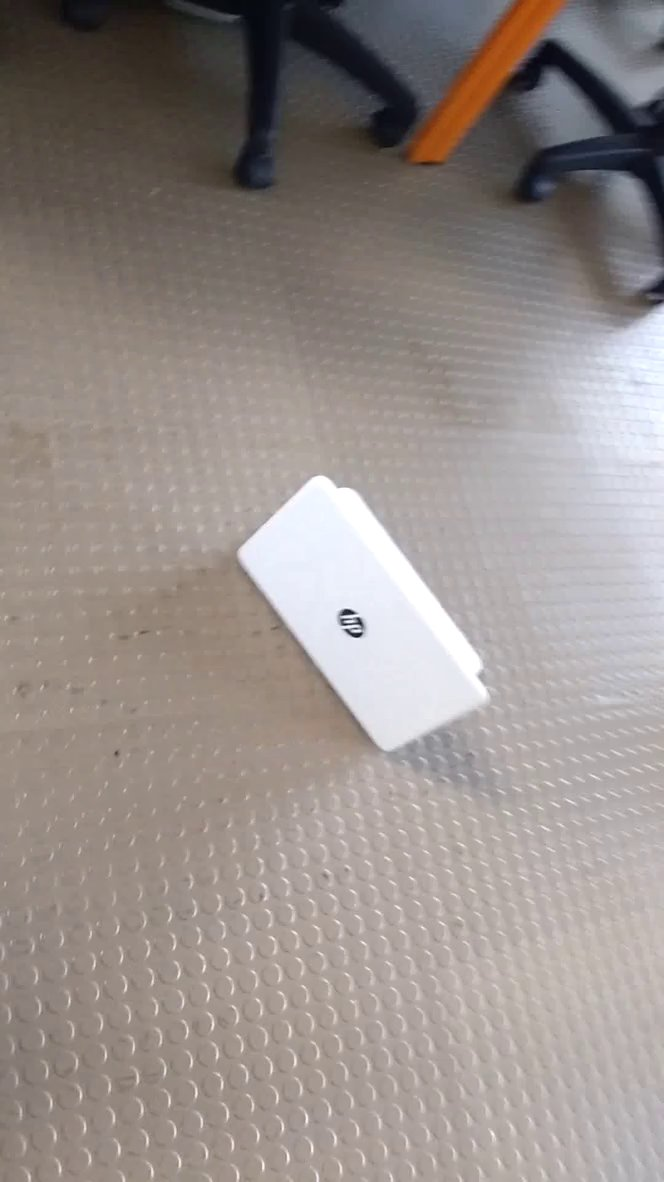laptop: (231, 472, 523, 759)
